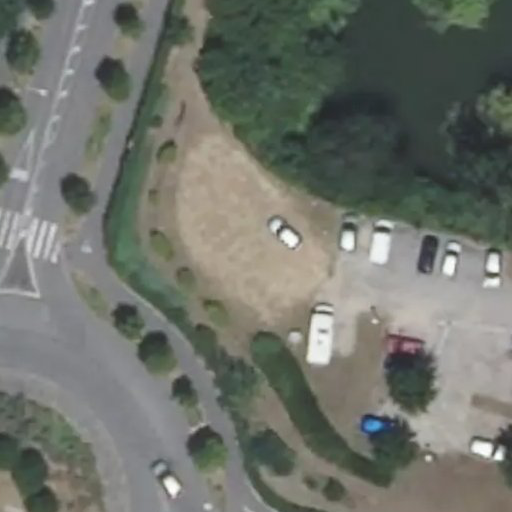pool: (206, 223, 305, 260)
